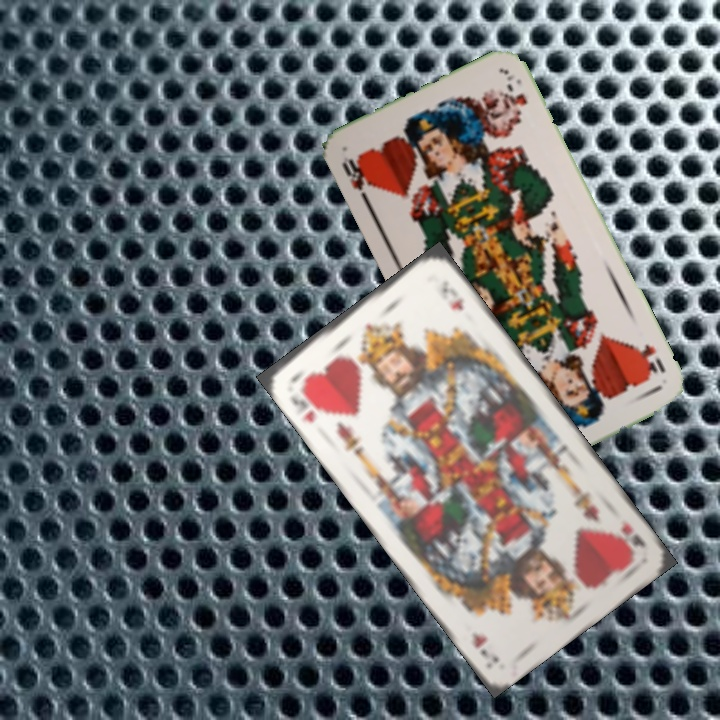HK: (286, 379, 323, 426), (616, 516, 649, 550)
HO: (338, 155, 373, 207), (629, 338, 668, 379)
